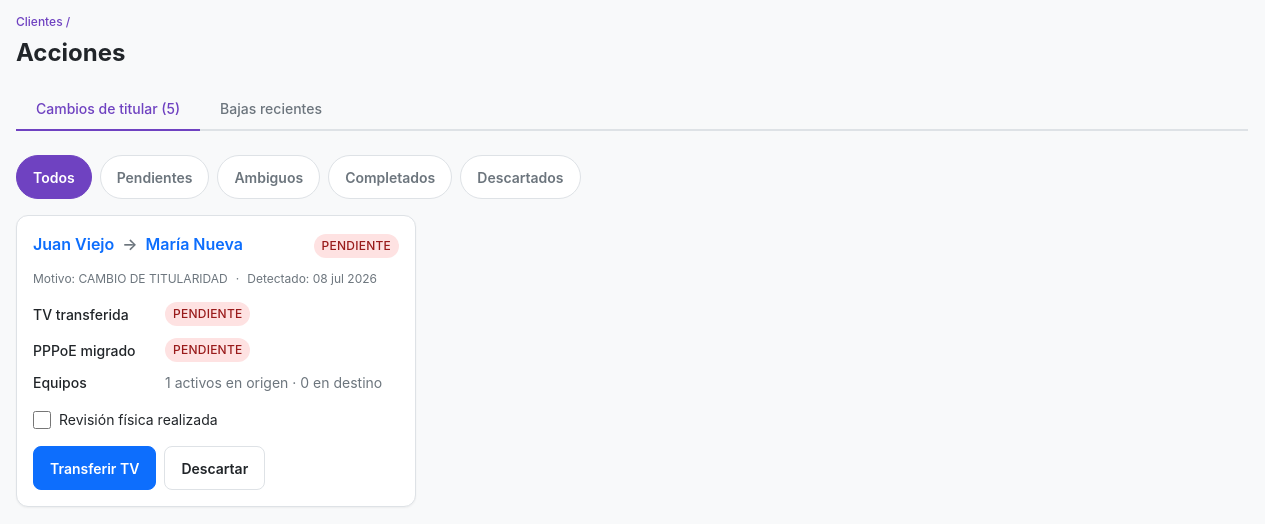
Test: APG-3: tab bajas lazy › no monta el tab de bajas hasta activarlo
Expected: the text "Pedro Baja" is not shown
Click the tab "Bajas recientes" at [271, 109], box [200,87,342,131]
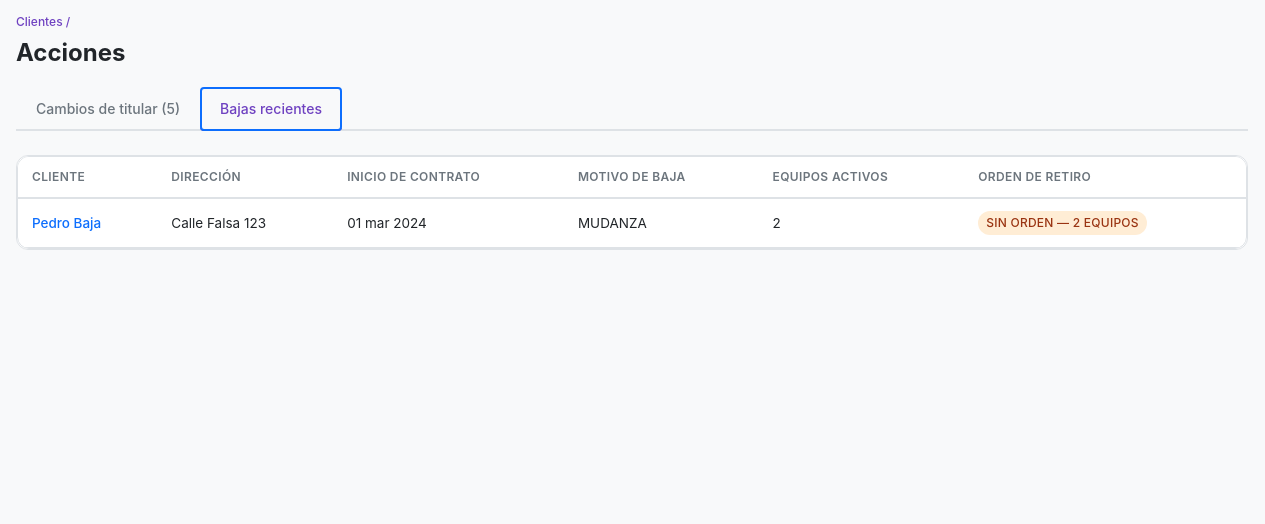
Expected: the link "Pedro Baja" is shown, [32,215,101,231]
